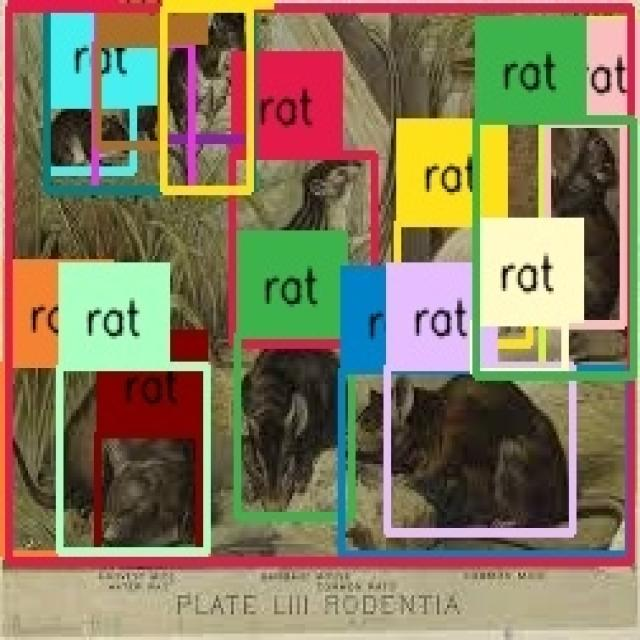rat: (9, 10, 631, 563), (342, 368, 628, 554), (475, 121, 635, 378), (4, 365, 207, 557), (46, 6, 251, 192), (386, 368, 571, 534), (58, 364, 206, 554), (232, 157, 374, 342), (542, 120, 634, 376), (237, 333, 352, 515), (398, 221, 530, 342), (164, 8, 250, 190), (548, 121, 624, 326), (96, 42, 190, 188), (96, 432, 200, 550), (165, 8, 249, 139), (96, 43, 162, 146), (47, 102, 133, 173), (474, 323, 565, 371)
